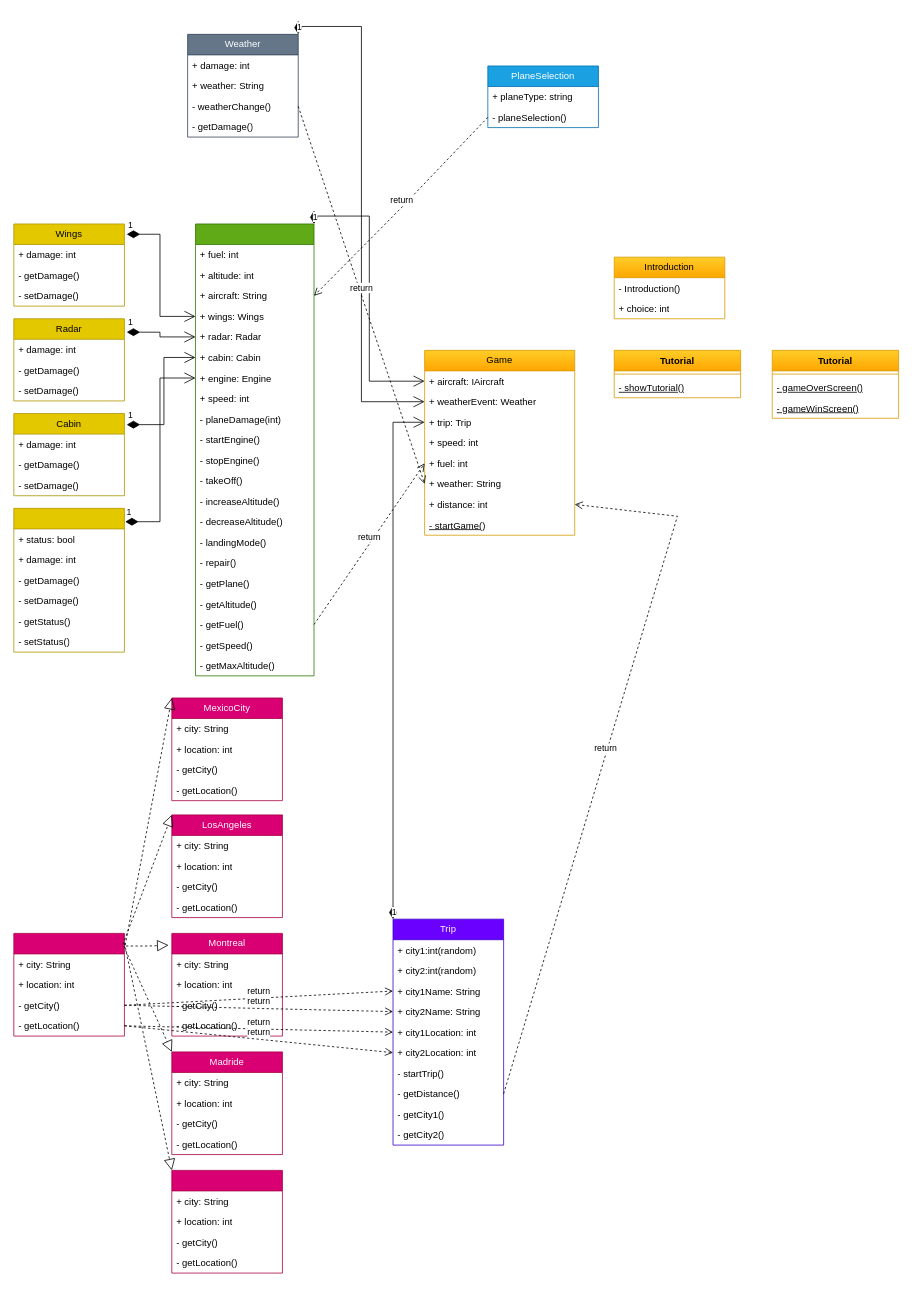
The diagram is 912 pixels wide and 1289 high, and some of its shapes have lost their labels. The box of each missing label's shape, as (x1, y1, x2, y2) in pixels:
Engine: (13, 508, 124, 652)
IAircraft: (195, 223, 314, 676)
iCity: (13, 933, 124, 1036)
Paris: (171, 1170, 282, 1273)
